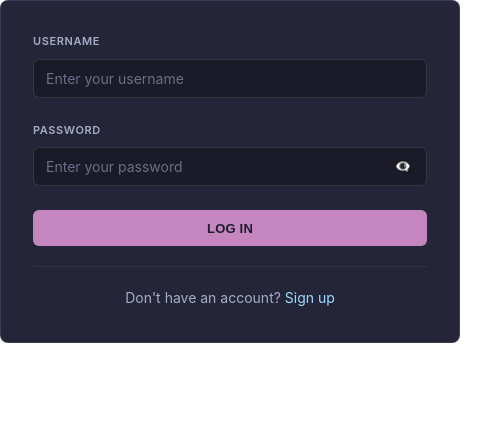
Test: LoginPage_escapeKey_dismissesBanner › should dismiss error banner on Escape key press
Type "testuser" into the field with placeholder "Enter your username" at (230, 78), box [33, 59, 427, 98]
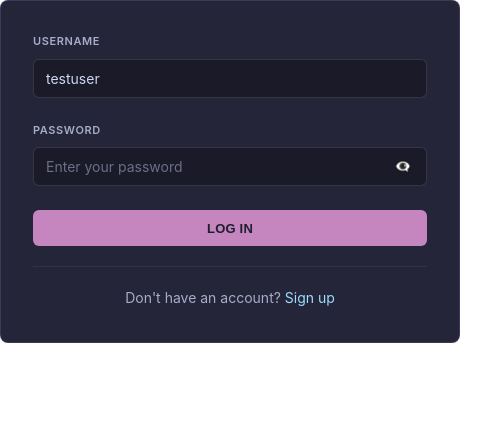
Type "wrongpass" into the password field with placeholder "Enter your password" at (230, 167), box [33, 147, 427, 186]
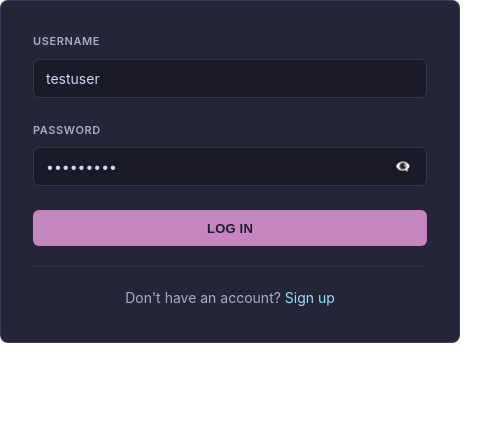
Click the button "LOG IN" at (230, 228), box [33, 210, 427, 246]
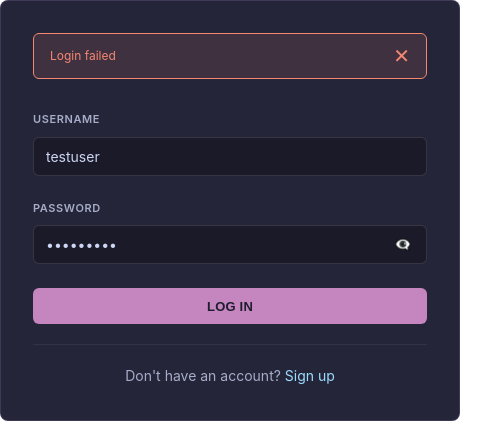
Expected: the message "Login failed ✕" is shown, [33, 33, 427, 79]
Press Escape
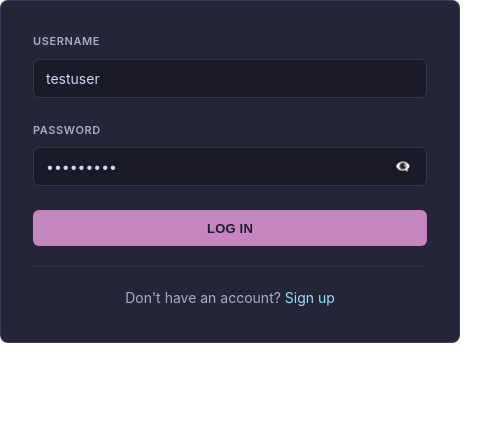
Expected: the message "Login failed ✕" is gone
